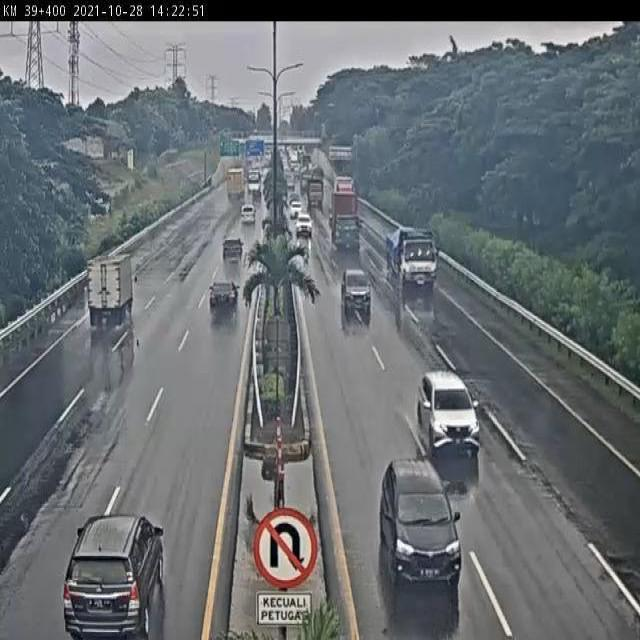car: (62, 513, 166, 640)
truck: (87, 253, 139, 324), (387, 225, 442, 292), (332, 191, 364, 251)
